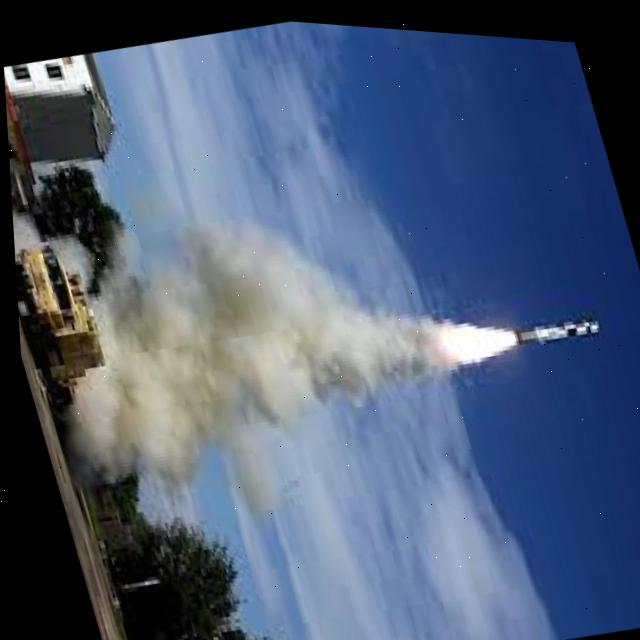missile: (503, 293, 605, 350)
